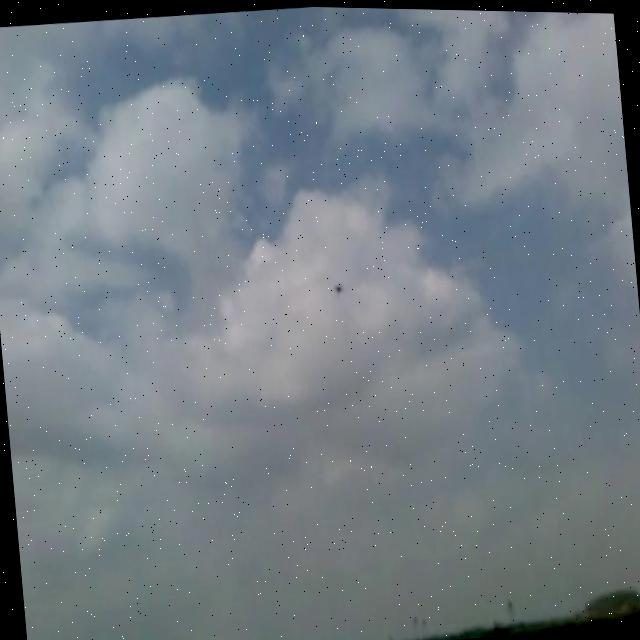drone: (330, 272, 344, 293)
